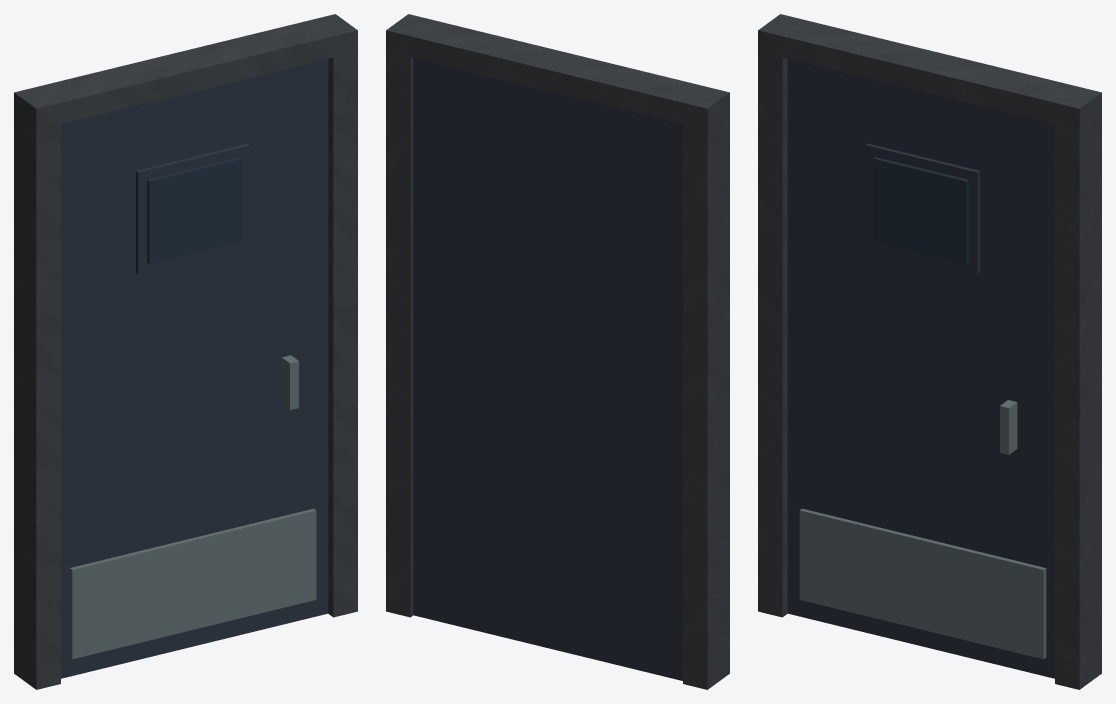
File: rear_door.glb
3 renders of one model, left to right at view 1: azimuth 30°, elevation 25°; view 2: azimuth 150°, elevation 25°; view 3: azimuth 330°, elevation 25°, orthographic.
Visible parts, largest first — view 1: rear_door_Steel, rear_door_Concrete, rear_door_Trim, rear_door_Glass; view 2: rear_door_Steel, rear_door_Concrete; view 3: rear_door_Steel, rear_door_Concrete, rear_door_Trim, rear_door_Glass.
Boxes of the visible parts, bbox=[...] form: rear_door_Steel: bbox=[61, 59, 328, 678]; rear_door_Concrete: bbox=[14, 14, 357, 689]; rear_door_Trim: bbox=[69, 355, 316, 659]; rear_door_Glass: bbox=[147, 157, 242, 264]; rear_door_Steel: bbox=[413, 58, 682, 680]; rear_door_Concrete: bbox=[386, 14, 729, 689]; rear_door_Steel: bbox=[787, 59, 1054, 678]; rear_door_Concrete: bbox=[758, 14, 1101, 689]; rear_door_Trim: bbox=[799, 400, 1046, 659]; rear_door_Glass: bbox=[873, 157, 968, 264].
Size of the model in its own units: 1.58 by 2.73 by 0.24.
Materials: 4 (1 with a texture image).
